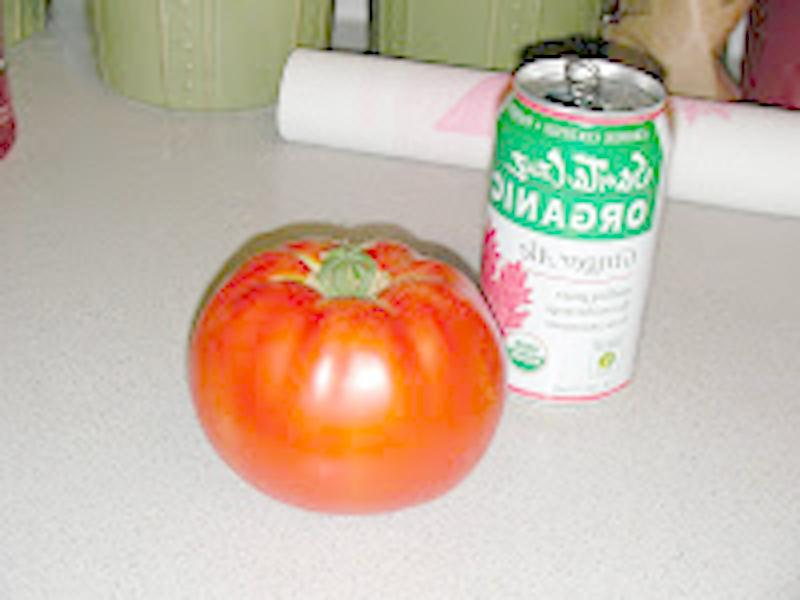Tomato: (191, 240, 503, 512)
